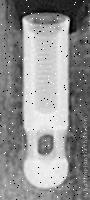3M ESPE: (22, 12, 70, 190)
